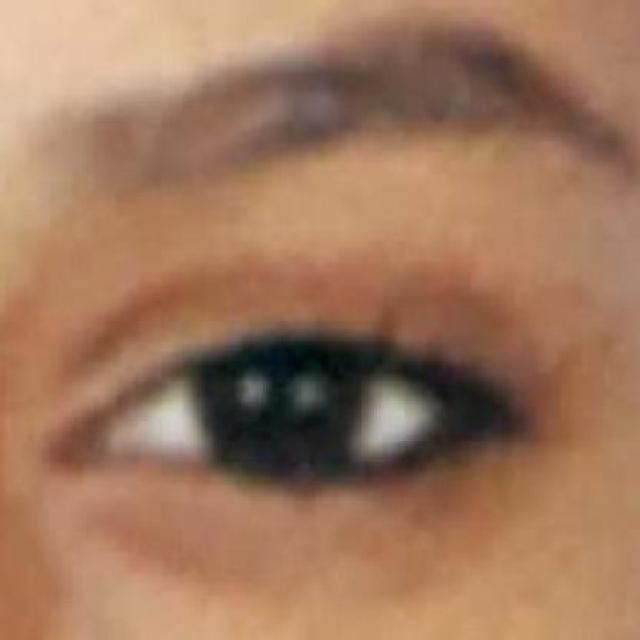awake: (61, 319, 493, 496)
